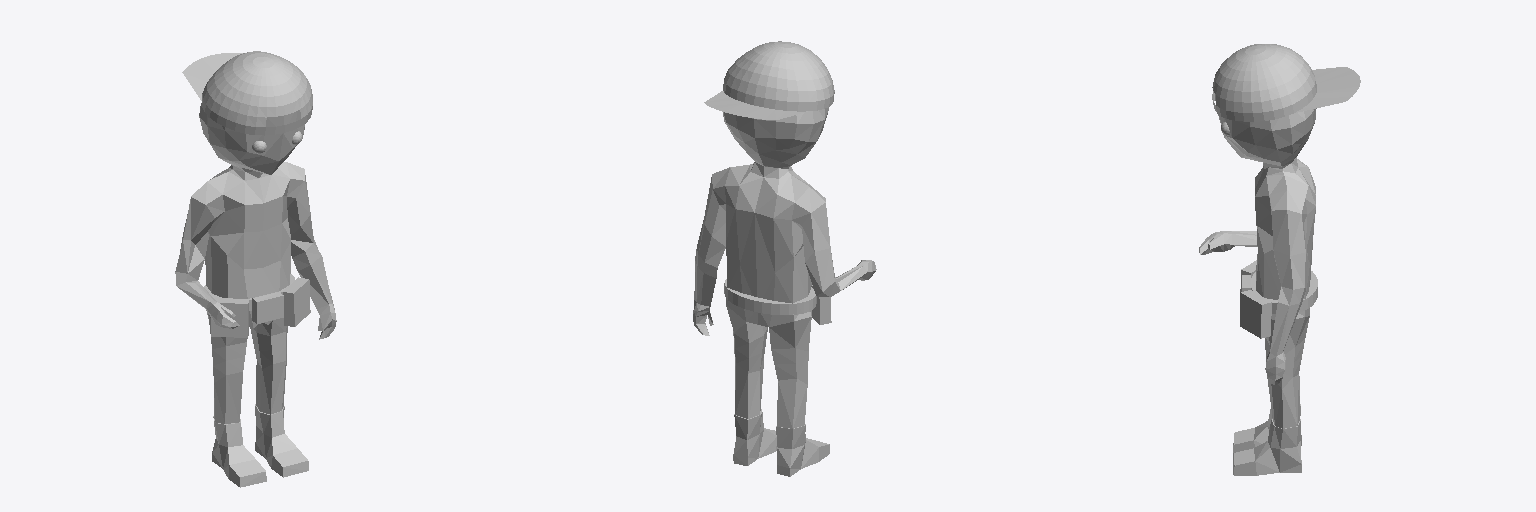
Rendered from Main_Character_Paint_11.obj.
The picture shows the model from 3 angles: view 1: azimuth 30°, elevation 25°; view 2: azimuth 150°, elevation 25°; view 3: azimuth 270°, elevation 25°; orthographic projection.
Visible parts, largest first — view 1: Main_Character_Test.003_Main_Character_Test.004; view 2: Main_Character_Test.003_Main_Character_Test.004; view 3: Main_Character_Test.003_Main_Character_Test.004.
Boxes of the visible parts, <box> form: Main_Character_Test.003_Main_Character_Test.004: <box>175,51,336,487</box>; Main_Character_Test.003_Main_Character_Test.004: <box>693,41,876,476</box>; Main_Character_Test.003_Main_Character_Test.004: <box>1199,44,1360,475</box>.
Bounding box in the file's own units: 1.54 × 3.96 × 1.42.